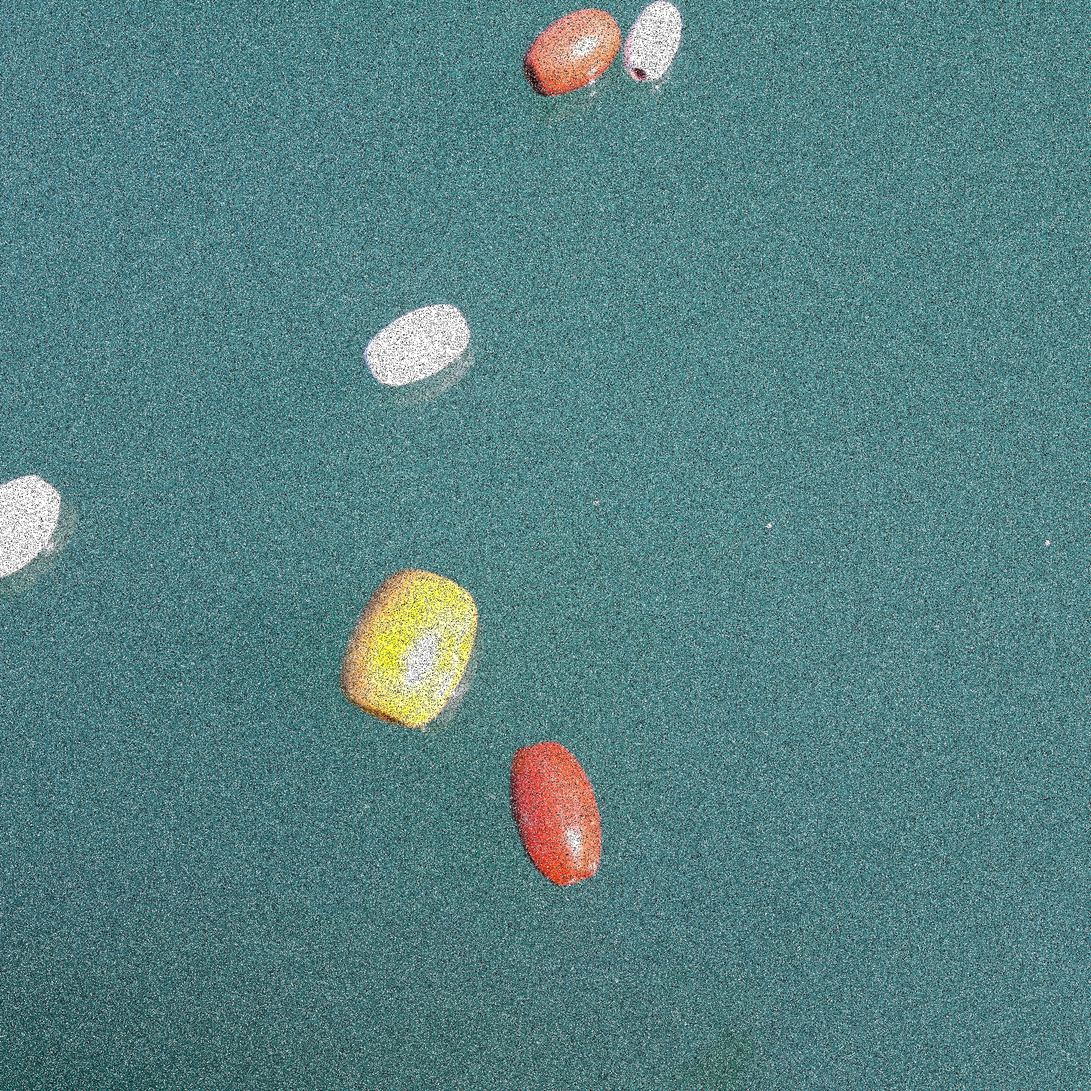sampah_terapung: (339, 569, 478, 733), (511, 741, 603, 887), (363, 304, 471, 387), (524, 9, 622, 97), (1, 475, 61, 580), (623, 1, 682, 83)
